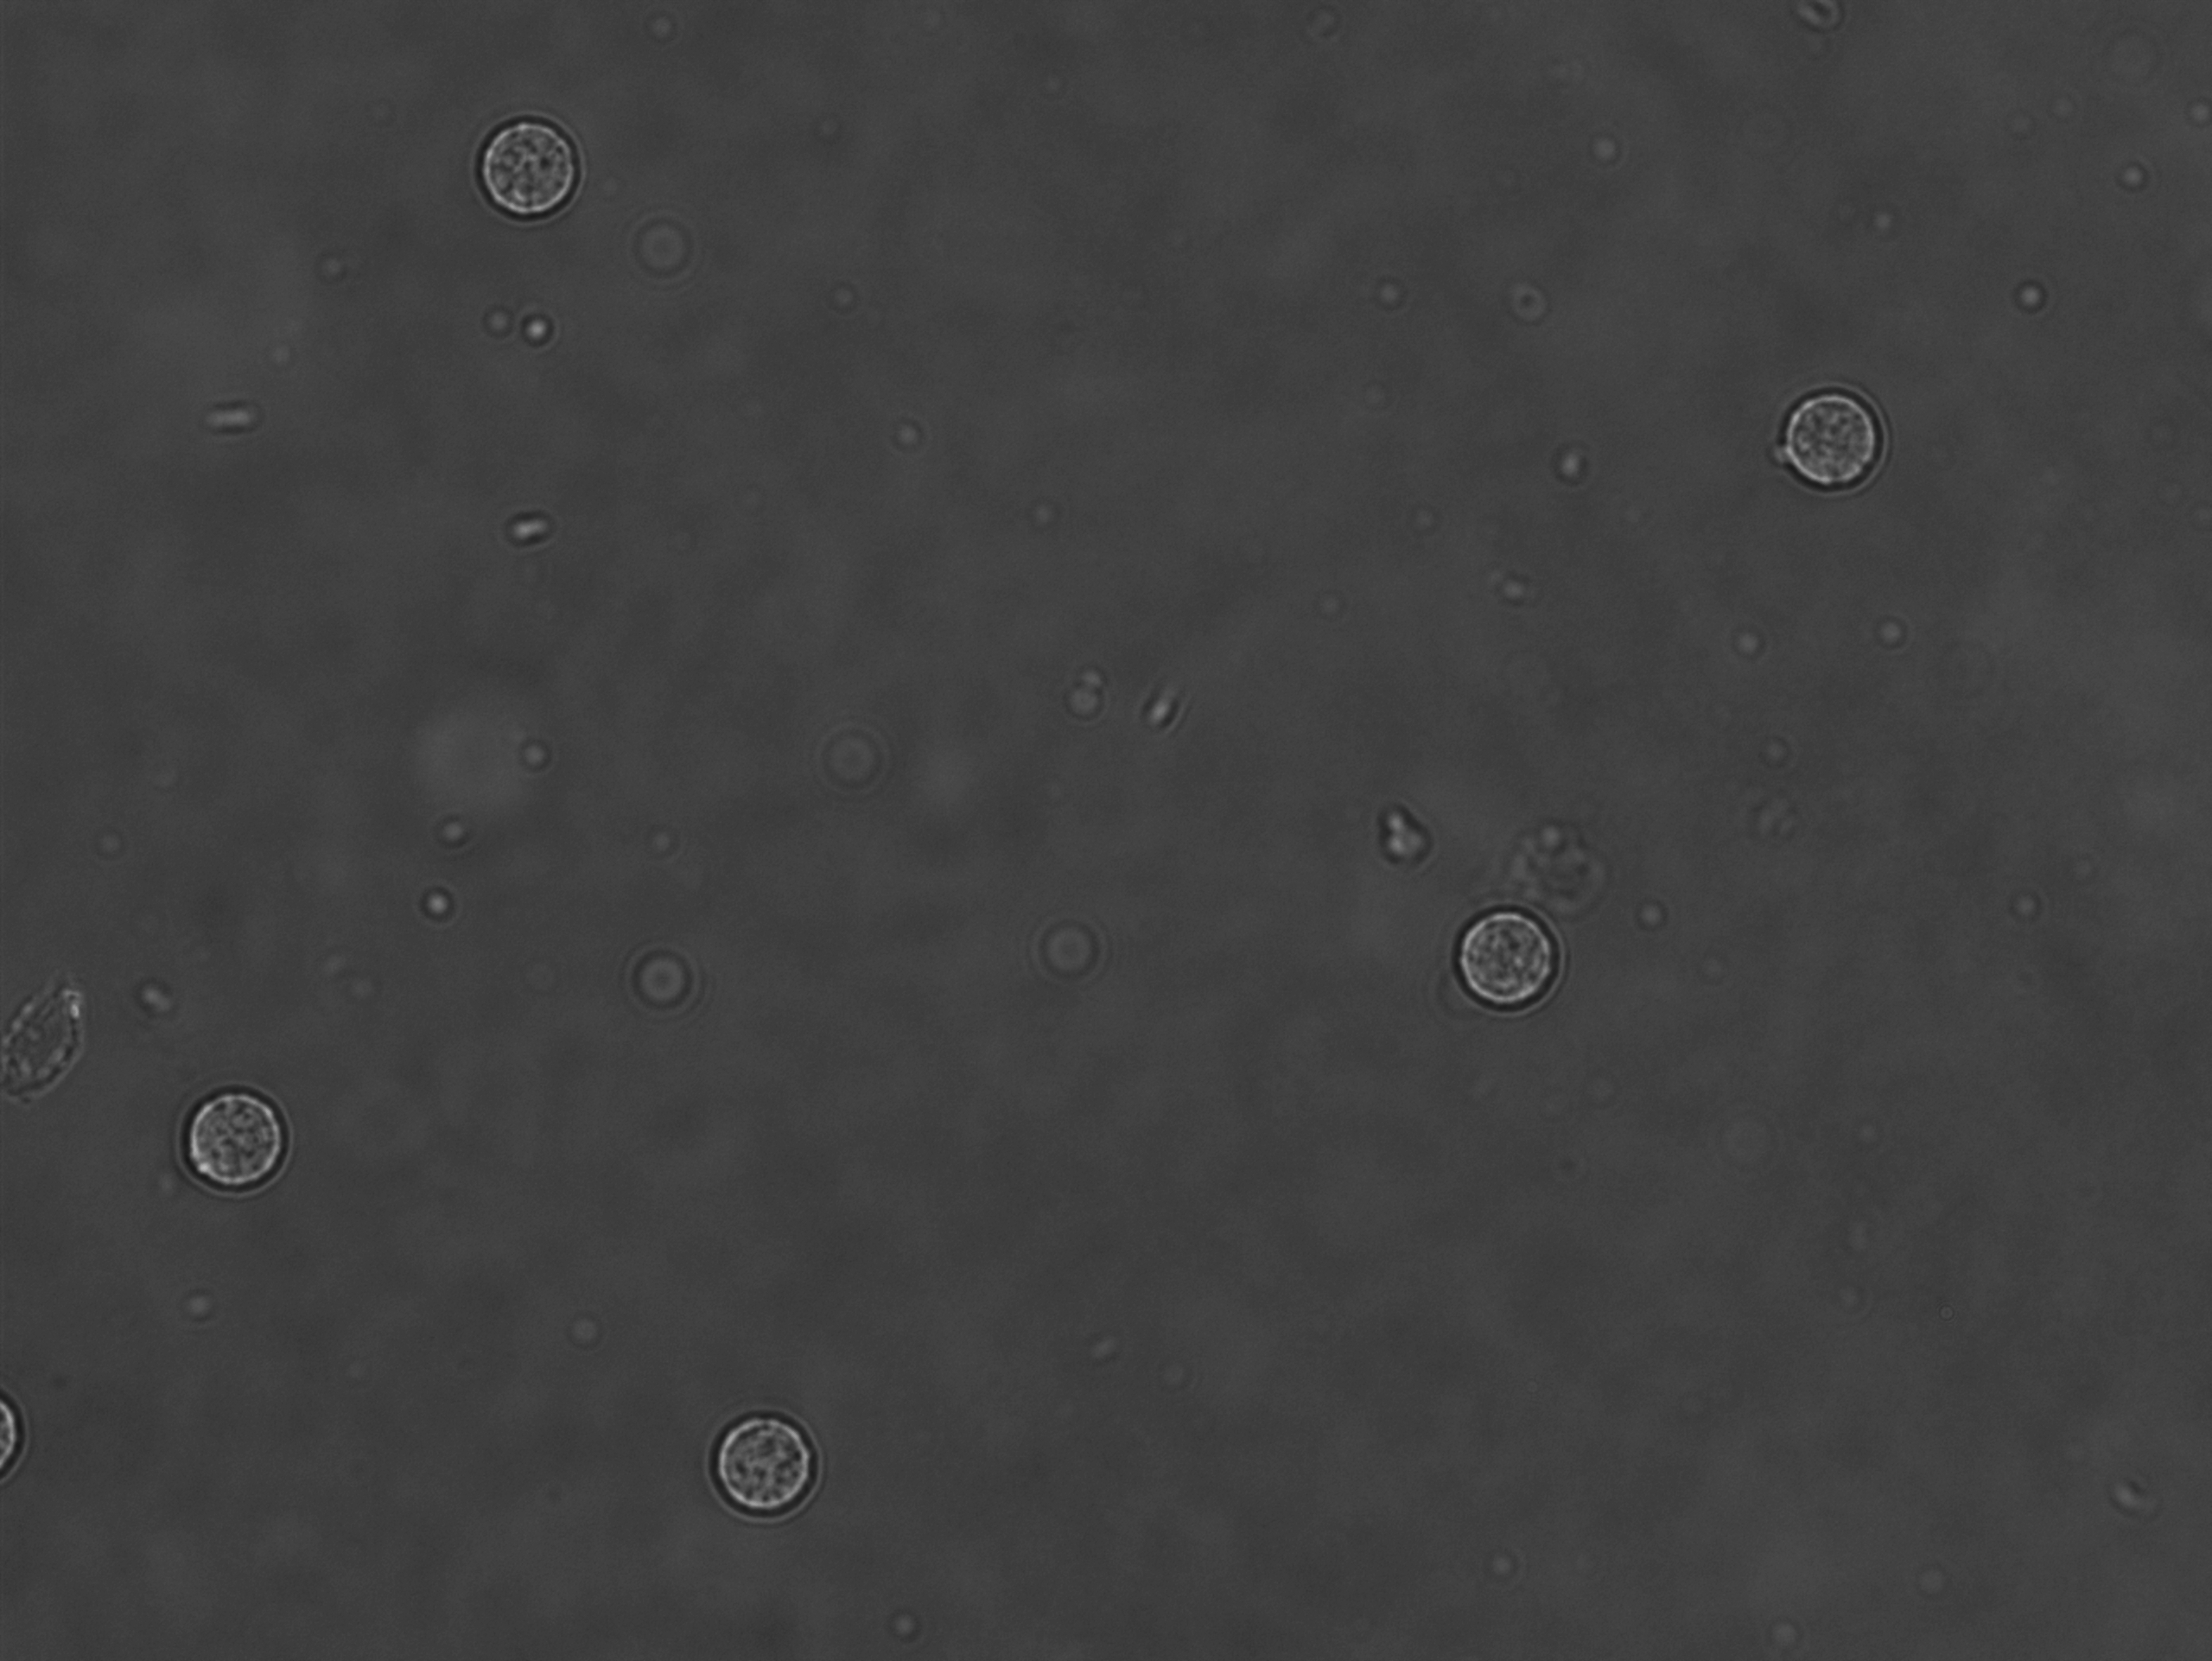depth:0: (1751, 366, 1898, 520), (1441, 897, 1600, 1038), (693, 1394, 843, 1530), (455, 105, 605, 232), (173, 1073, 312, 1202)
